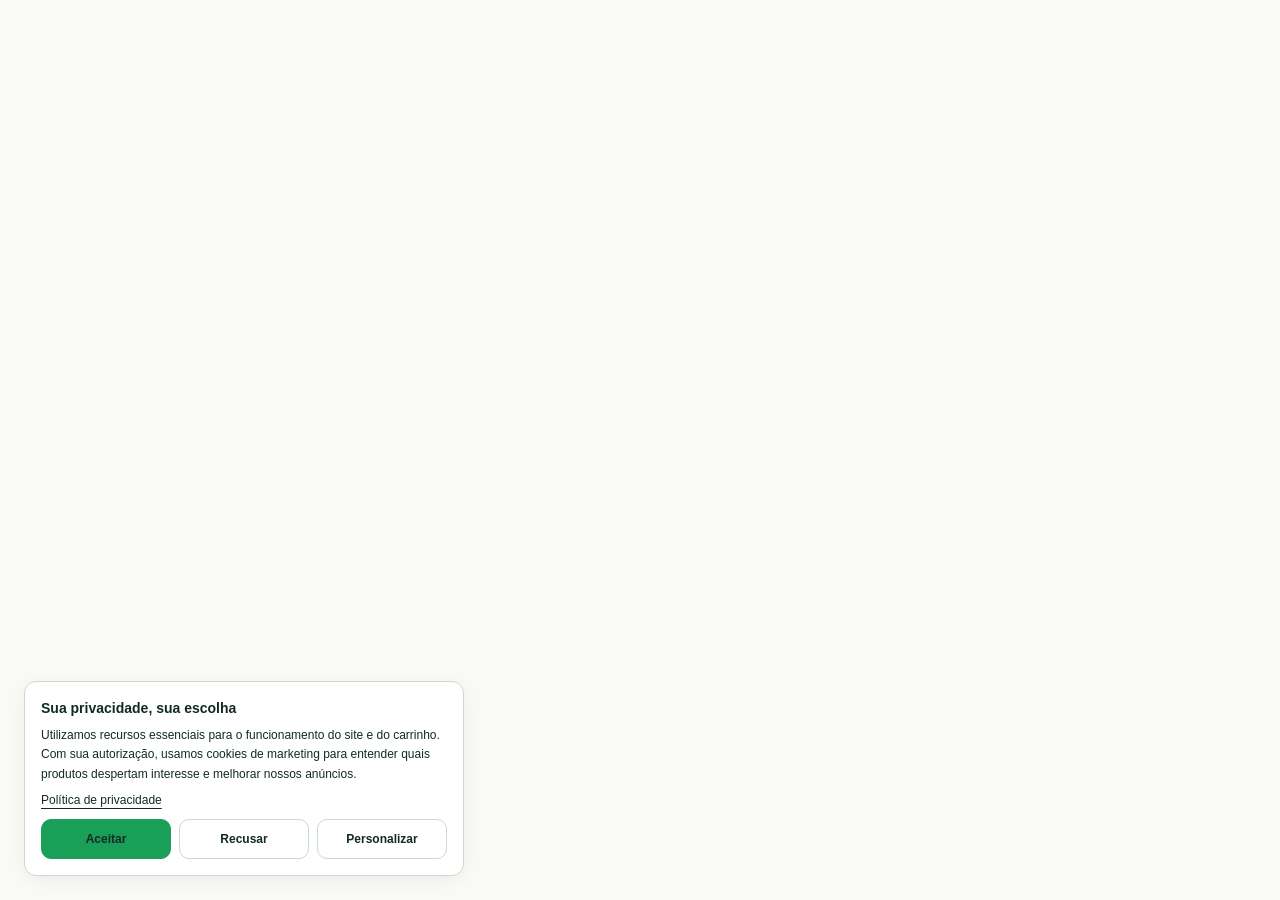
explicit cookie decisions › closing customization without saving restores the undecided notice
The width and height of the screenshot is (1280, 900).
Click the button "Personalizar" at point(382, 839), box [317,819,447,859]
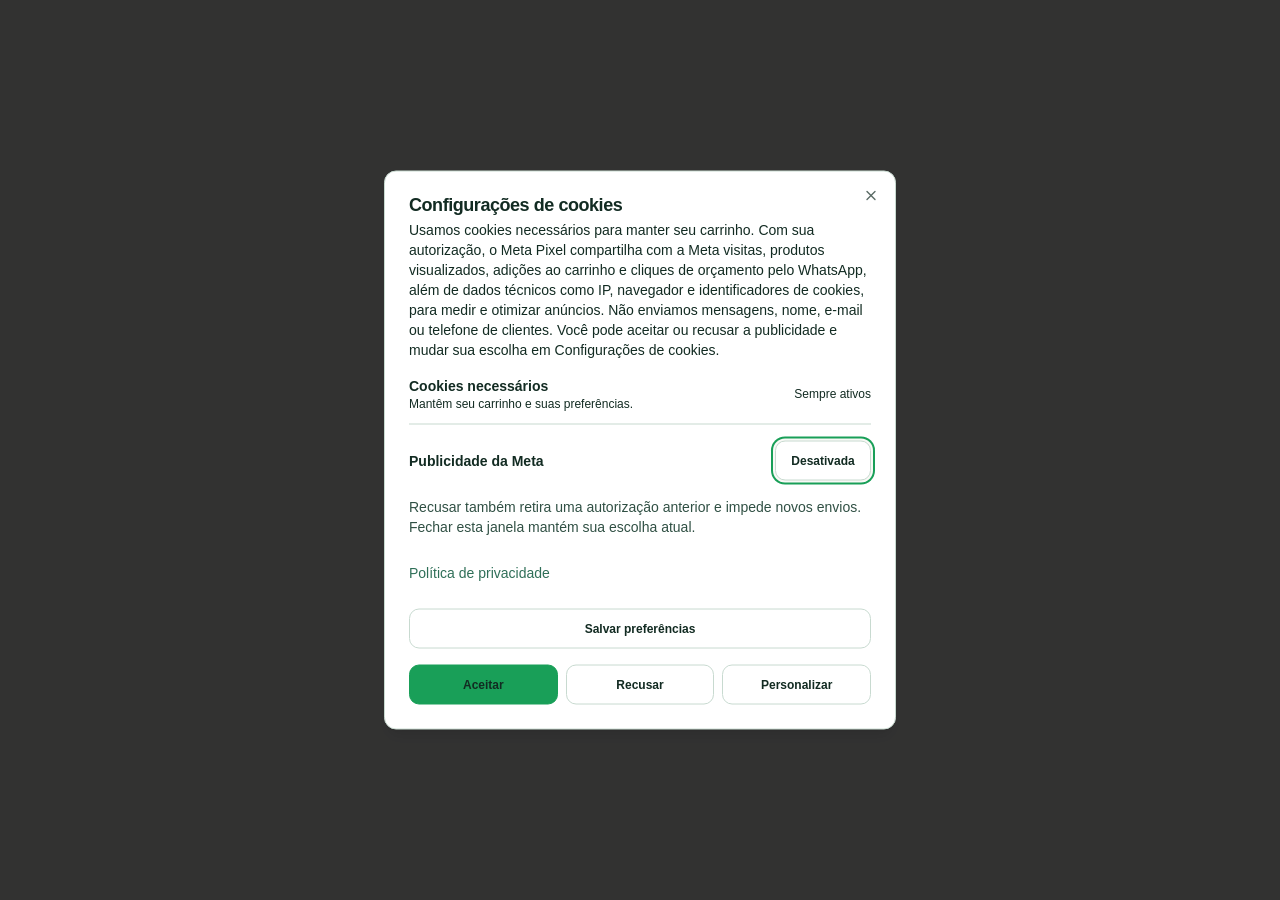
Press Escape in the dialog, box [384,170,896,730]
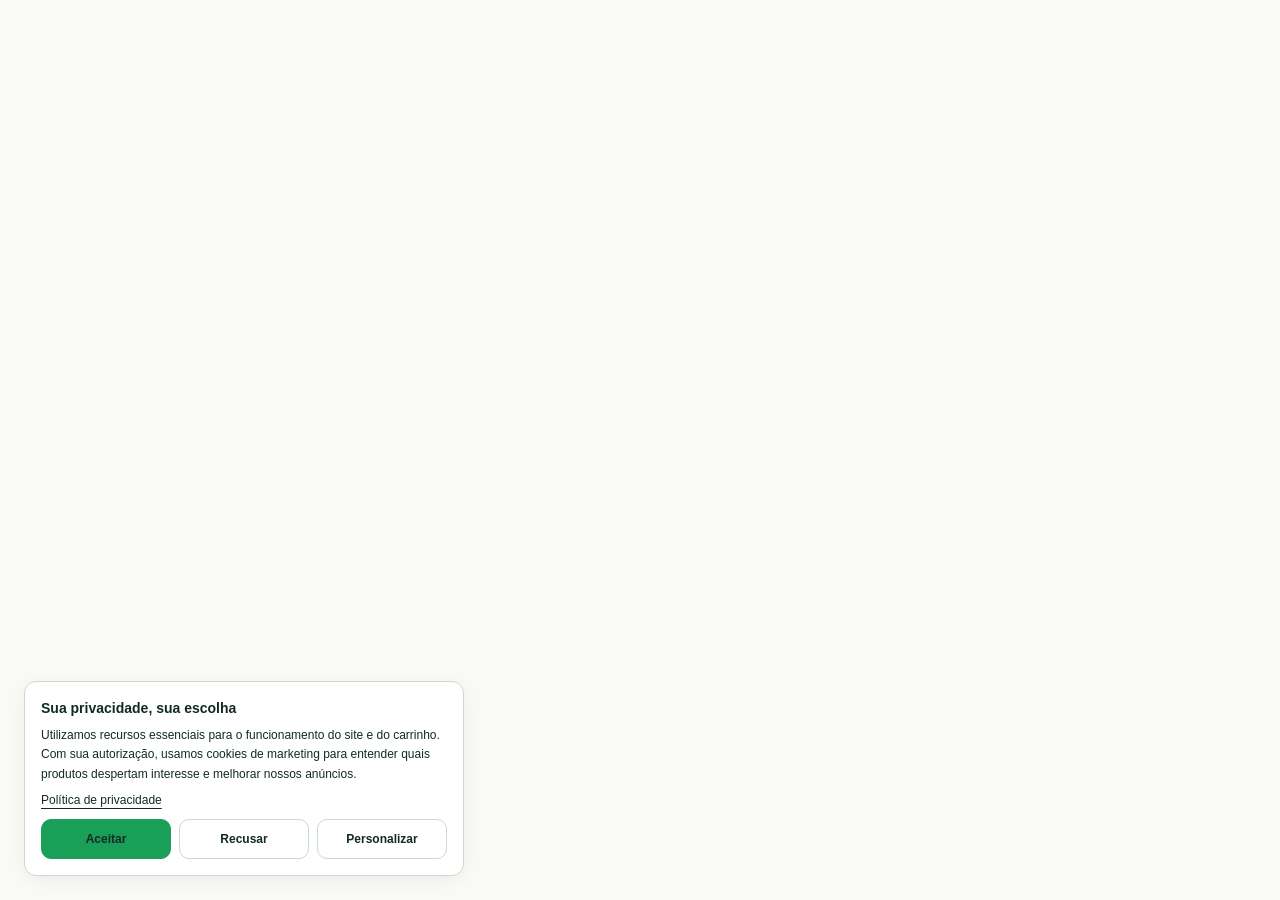
Result: the element named "Consentimento de cookies" is shown at [24,680,464,876]
